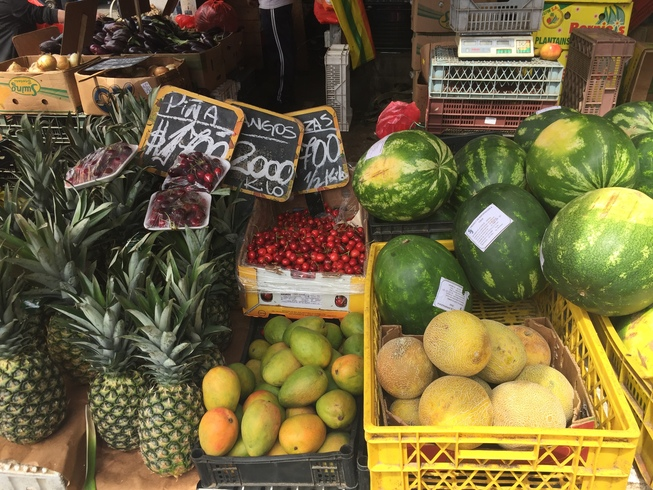precio: (134, 80, 252, 188), (213, 100, 310, 206), (277, 93, 355, 201)
